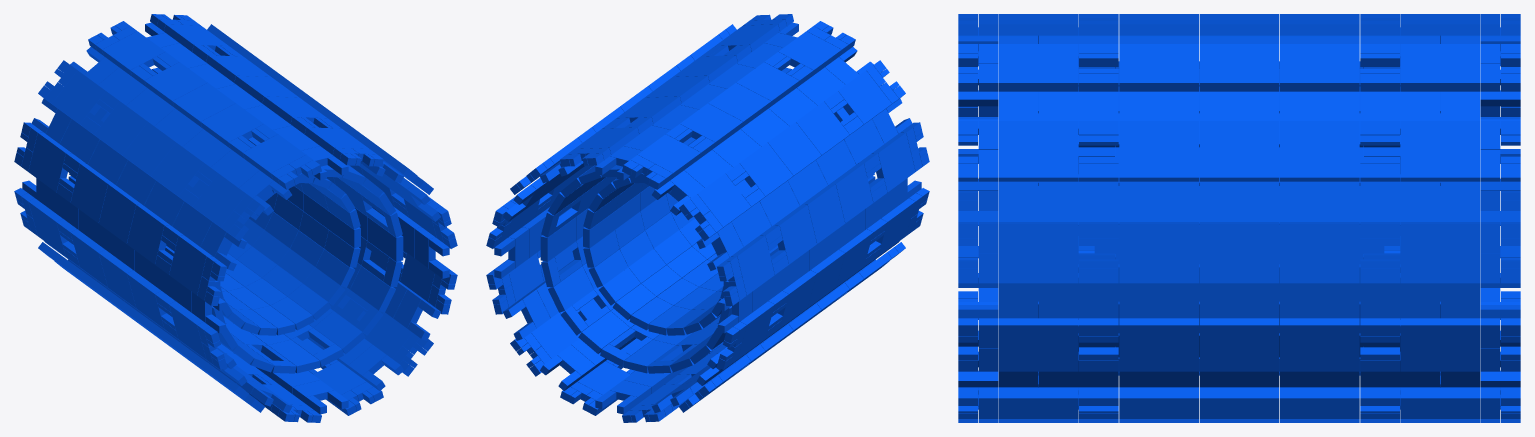
Rendered from barrel-chambers.obj.
The picture shows the model from 3 angles, left to right: view 1: azimuth 30°, elevation 25°; view 2: azimuth 150°, elevation 25°; view 3: azimuth 270°, elevation 25°; orthographic projection. The views are drawn at different scales.
Parts seen in each view (by area): view 1: chamber_B3_F09_Z00_z1_MERGED, chamber_B3_F09_Z04, chamber_B3_F11_Z00_z1_MERGED, chamber_B3_F11_Z04, chamber_B3_F09_Z05_z1_MERGED, chamber_B3_F09_Z02, chamber_B3_F09_Z03, chamber_B3_F07_Z04, chamber_B3_F07_Z00_z1_MERGED, chamber_B3_F11_Z02, chamber_B3_F11_Z05_z1_MERGED, chamber_B3_F11_Z03 (+77 smaller); view 2: chamber_B3_F09_Z02, chamber_B3_F09_Z05_z1_MERGED, chamber_B3_F11_Z05_z1_MERGED, chamber_B3_F11_Z02, chamber_B3_F09_Z00_z1_MERGED, chamber_B3_F09_Z04, chamber_B3_F09_Z03, chamber_B3_F07_Z02, chamber_B3_F07_Z05_z1_MERGED, chamber_B3_F11_Z04, chamber_B3_F11_Z00_z1_MERGED, chamber_B3_F11_Z03 (+77 smaller); view 3: chamber_B3_F01_Z00_z1_MERGED, chamber_B3_F01_Z05_z1_MERGED, chamber_B3_F01_Z03, chamber_B3_F01_Z02, chamber_B3_F01_Z04, chamber_B3_F03_Z00_z1_MERGED, chamber_B3_F03_Z03, chamber_B3_F03_Z05_z1_MERGED, chamber_B3_F03_Z02, chamber_B3_F03_Z04, chamber_B3_F23_Z00_z1_MERGED, chamber_B3_F23_Z03 (+89 smaller).
Part boxes in pixels (x1=…): chamber_B3_F09_Z00_z1_MERGED: x1=52, y1=70, x2=105, y2=126; chamber_B3_F09_Z04: x1=150, y1=142, x2=203, y2=198; chamber_B3_F11_Z00_z1_MERGED: x1=28, y1=132, x2=71, y2=192; chamber_B3_F11_Z04: x1=127, y1=205, x2=170, y2=264; chamber_B3_F09_Z05_z1_MERGED: x1=193, y1=173, x2=246, y2=228; chamber_B3_F09_Z02: x1=94, y1=101, x2=147, y2=157; chamber_B3_F09_Z03: x1=122, y1=122, x2=175, y2=178; chamber_B3_F07_Z04: x1=201, y1=103, x2=263, y2=148; chamber_B3_F07_Z00_z1_MERGED: x1=102, y1=31, x2=165, y2=76; chamber_B3_F11_Z02: x1=70, y1=163, x2=113, y2=223; chamber_B3_F11_Z05_z1_MERGED: x1=169, y1=235, x2=212, y2=295; chamber_B3_F11_Z03: x1=98, y1=184, x2=142, y2=243; chamber_B3_F09_Z02: x1=740, y1=142, x2=793, y2=198; chamber_B3_F09_Z05_z1_MERGED: x1=838, y1=70, x2=891, y2=126; chamber_B3_F11_Z05_z1_MERGED: x1=872, y1=132, x2=915, y2=192; chamber_B3_F11_Z02: x1=773, y1=205, x2=816, y2=264; chamber_B3_F09_Z00_z1_MERGED: x1=697, y1=173, x2=750, y2=228; chamber_B3_F09_Z04: x1=796, y1=101, x2=849, y2=157; chamber_B3_F09_Z03: x1=768, y1=122, x2=821, y2=178; chamber_B3_F07_Z02: x1=680, y1=103, x2=742, y2=148; chamber_B3_F07_Z05_z1_MERGED: x1=778, y1=31, x2=841, y2=76; chamber_B3_F11_Z04: x1=830, y1=163, x2=873, y2=223; chamber_B3_F11_Z00_z1_MERGED: x1=731, y1=235, x2=774, y2=295; chamber_B3_F11_Z03: x1=801, y1=184, x2=845, y2=243; chamber_B3_F01_Z00_z1_MERGED: x1=1400, y1=222, x2=1480, y2=283; chamber_B3_F01_Z05_z1_MERGED: x1=998, y1=222, x2=1078, y2=283; chamber_B3_F01_Z03: x1=1199, y1=222, x2=1279, y2=283; chamber_B3_F01_Z02: x1=1280, y1=222, x2=1359, y2=283; chamber_B3_F01_Z04: x1=1119, y1=222, x2=1198, y2=283; chamber_B3_F03_Z00_z1_MERGED: x1=1400, y1=121, x2=1480, y2=181; chamber_B3_F03_Z03: x1=1199, y1=121, x2=1279, y2=181; chamber_B3_F03_Z05_z1_MERGED: x1=998, y1=121, x2=1078, y2=181; chamber_B3_F03_Z02: x1=1280, y1=121, x2=1359, y2=181; chamber_B3_F03_Z04: x1=1119, y1=121, x2=1198, y2=181; chamber_B3_F23_Z00_z1_MERGED: x1=1400, y1=318, x2=1480, y2=371; chamber_B3_F23_Z03: x1=1199, y1=318, x2=1279, y2=371.
Bounding box in the file's own units: 18.08 × 18.08 × 25.
